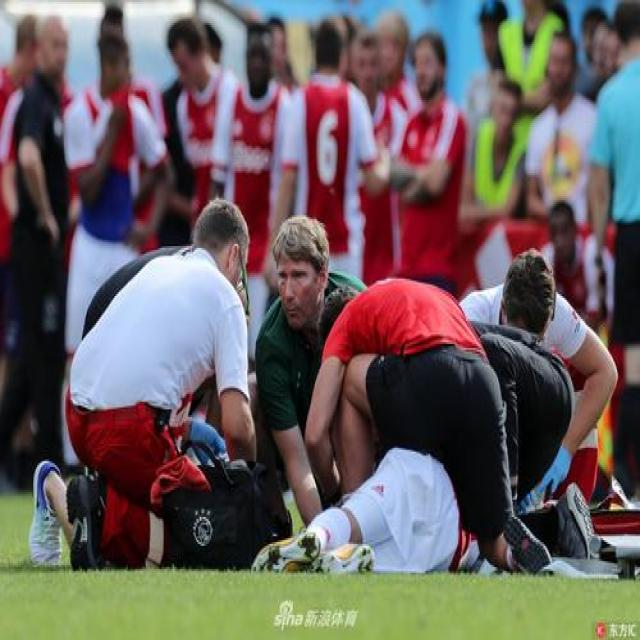10-: (0, 0, 638, 578)
down: (251, 415, 517, 590)
